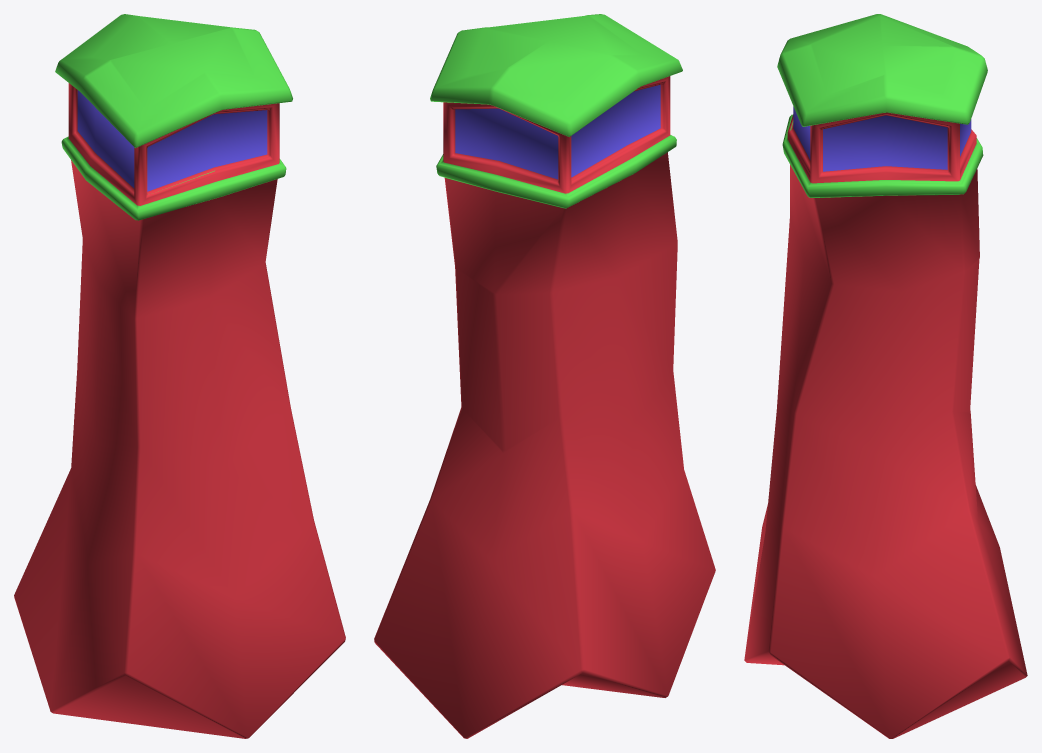
The model's file is chimney.glb.
3 views of the same model, side by side, from view 1: azimuth 30°, elevation 25°; view 2: azimuth 150°, elevation 25°; view 3: azimuth 270°, elevation 25° (orthographic). The views are drawn at different scales.
Parts seen in each view (by area): view 1: chimney; view 2: chimney; view 3: chimney.
Boxes of the visible parts, left/top/right/bottom form: chimney: left=14, top=14, right=345, bottom=738; chimney: left=374, top=14, right=715, bottom=738; chimney: left=744, top=14, right=1027, bottom=738.
Bounding box in the file's own units: 1.38 × 3.41 × 1.39.
